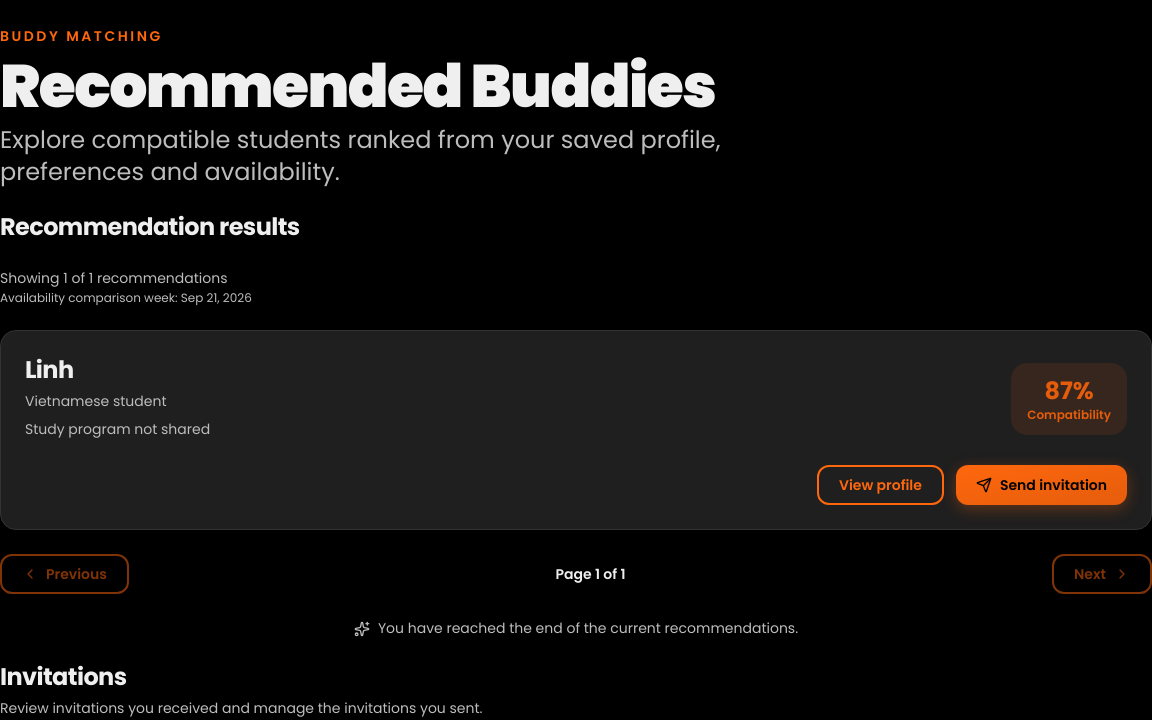
REC-004 Recommended Buddies page › uses consistent fallbacks for missing optional profile details
Click the button "View profile" at [880, 485], box [817,465,944,505]
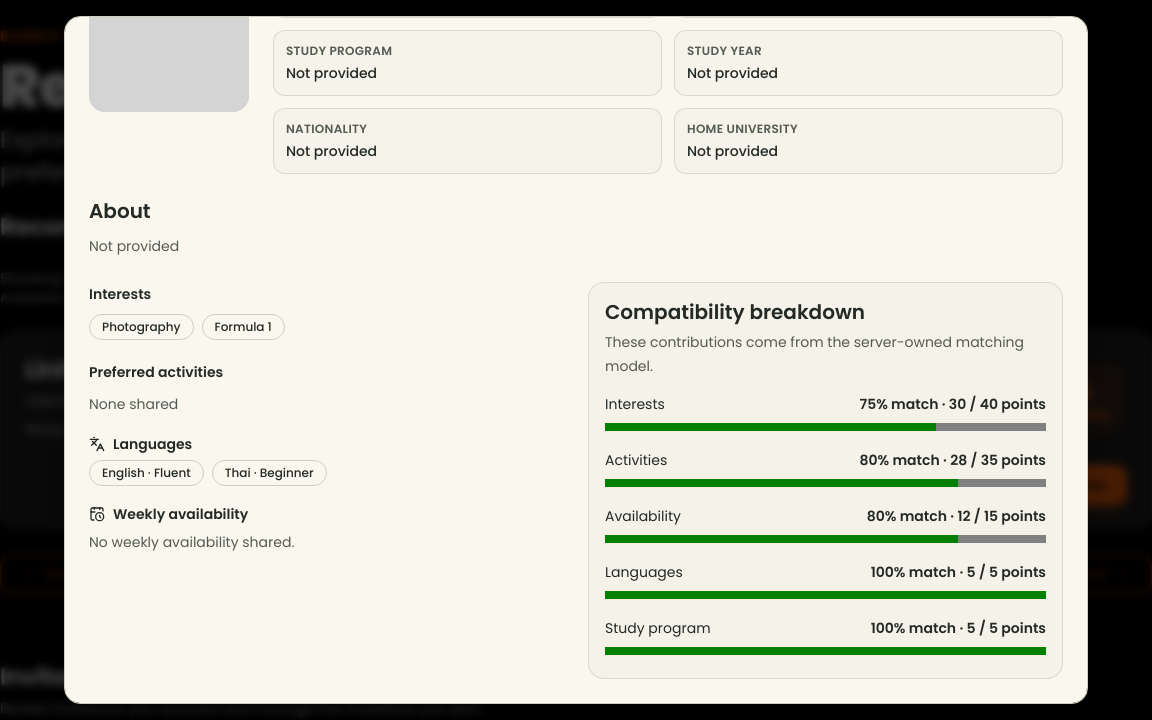
Result: the text "None shared" is shown at [89,394,178,414]
Result: the text "No weekly availability shared." is shown at [89,532,294,552]
